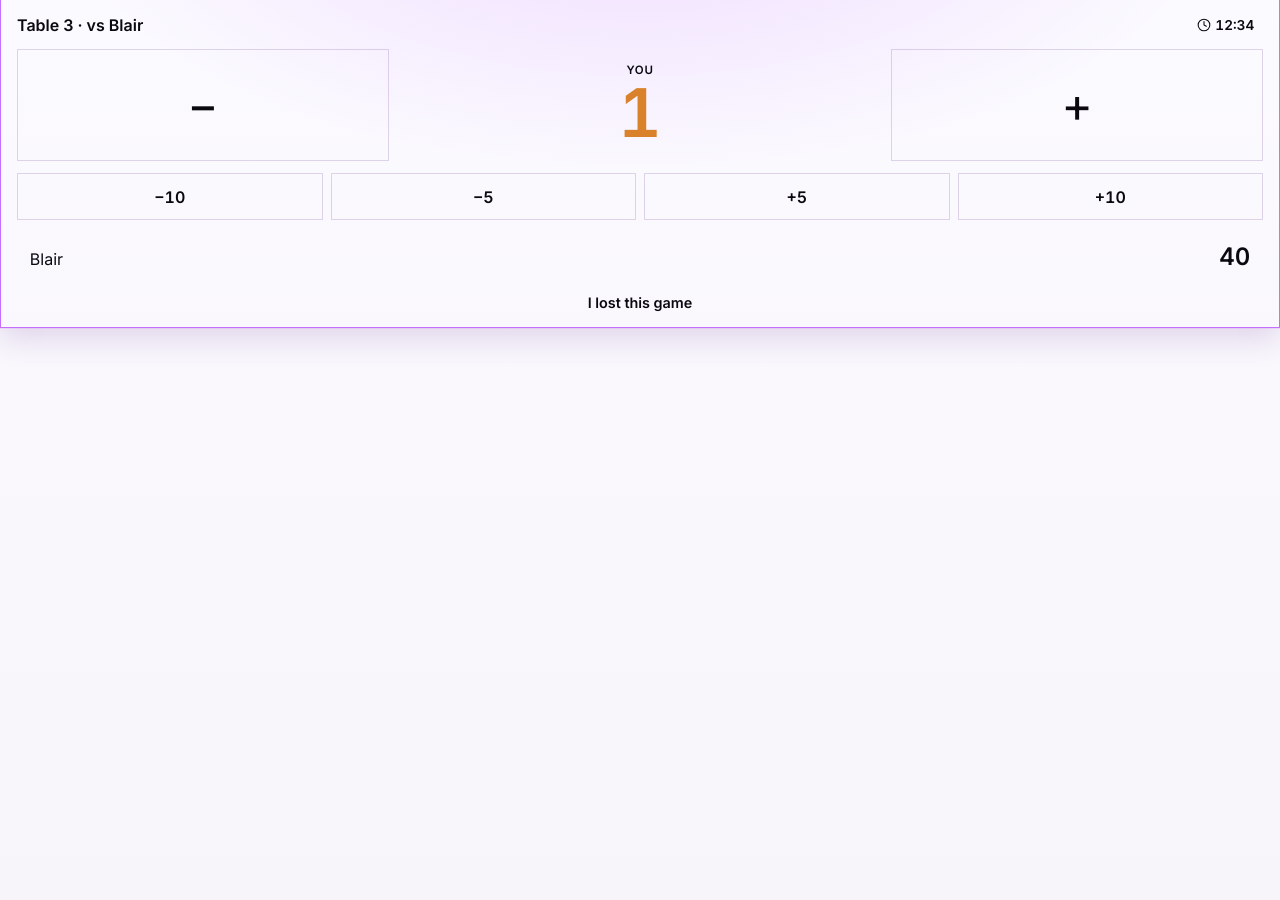
life counter › lets a player say no and keep playing
Step 1. Click the button named "Lose 1 life" → (203, 105), box x1=17 y1=49 x2=389 y2=161
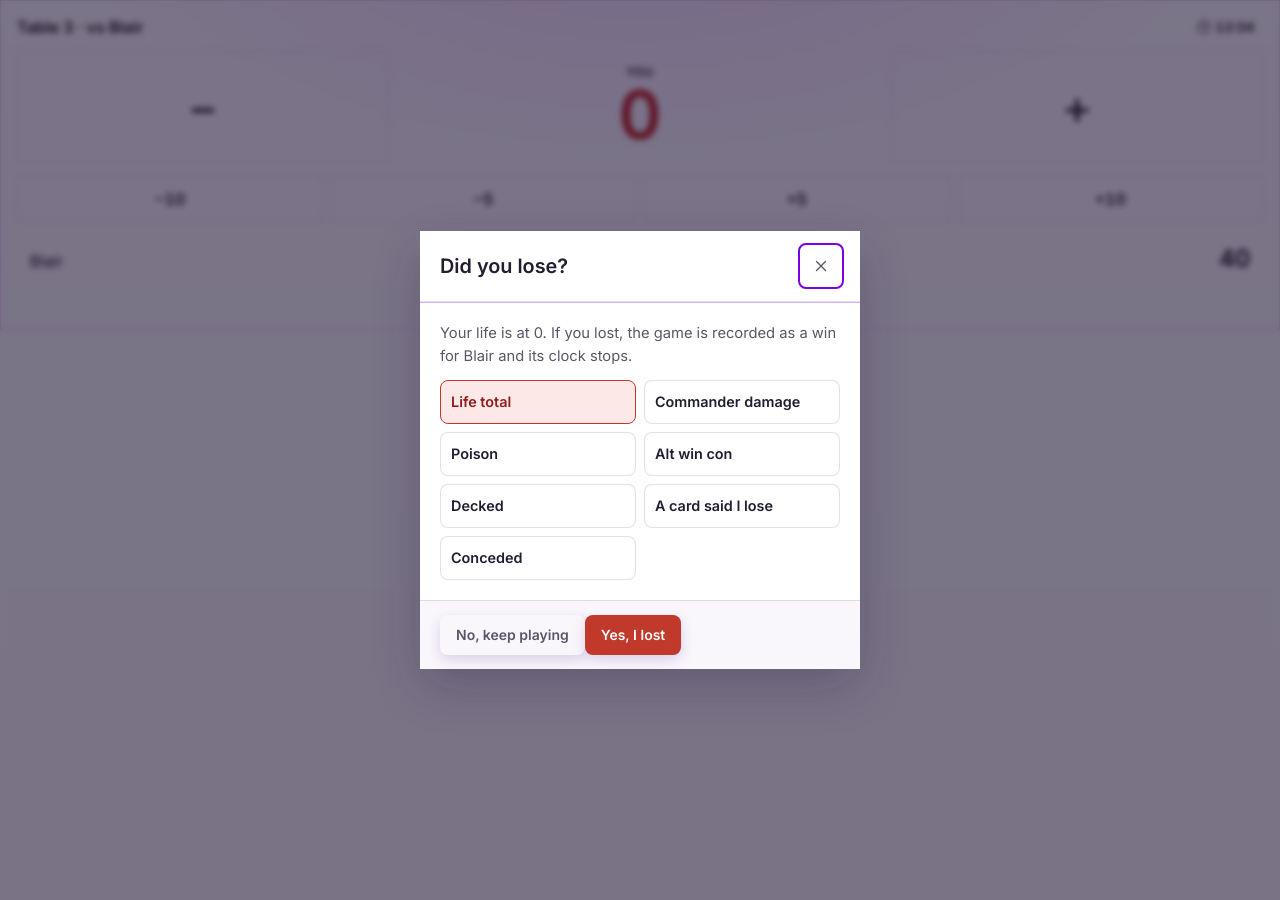
Step 2. Click the button "No, keep playing" → (512, 635), box x1=440 y1=615 x2=585 y2=655
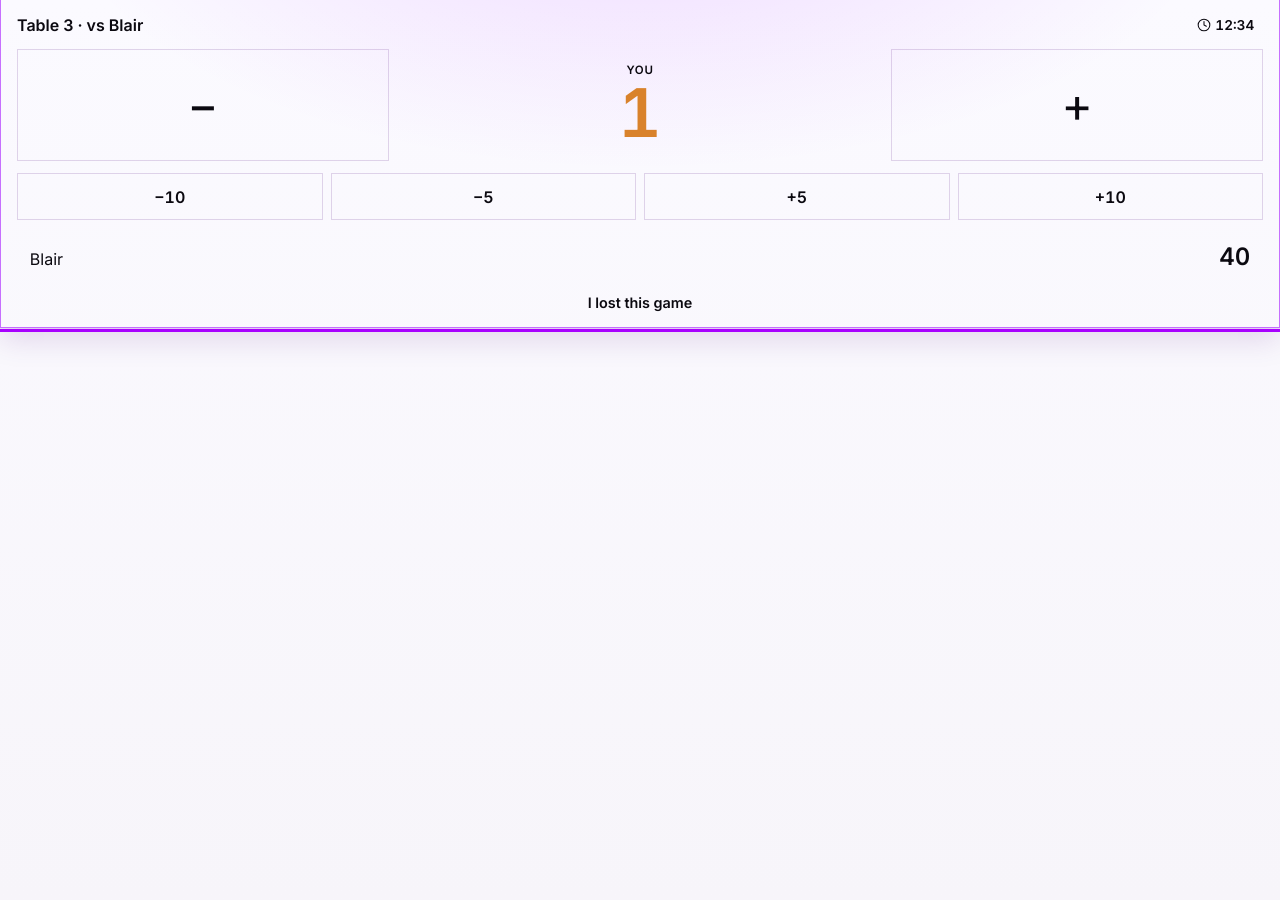
Check: the text named "You: 0 life" is shown, box x1=618 y1=79 x2=662 y2=146
Check: the dialog is gone
